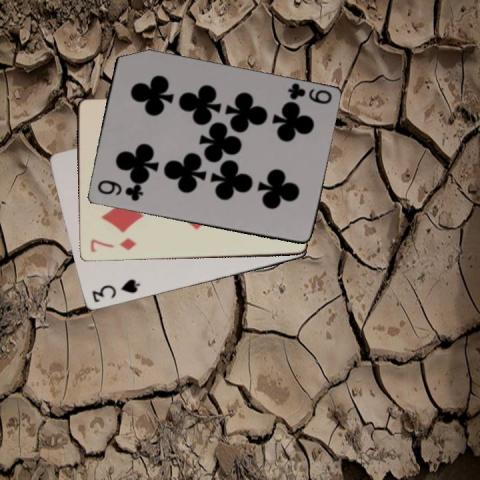3s: (88, 276, 140, 304)
7d: (87, 236, 137, 254)
9c: (94, 178, 144, 203), (284, 81, 333, 106)
